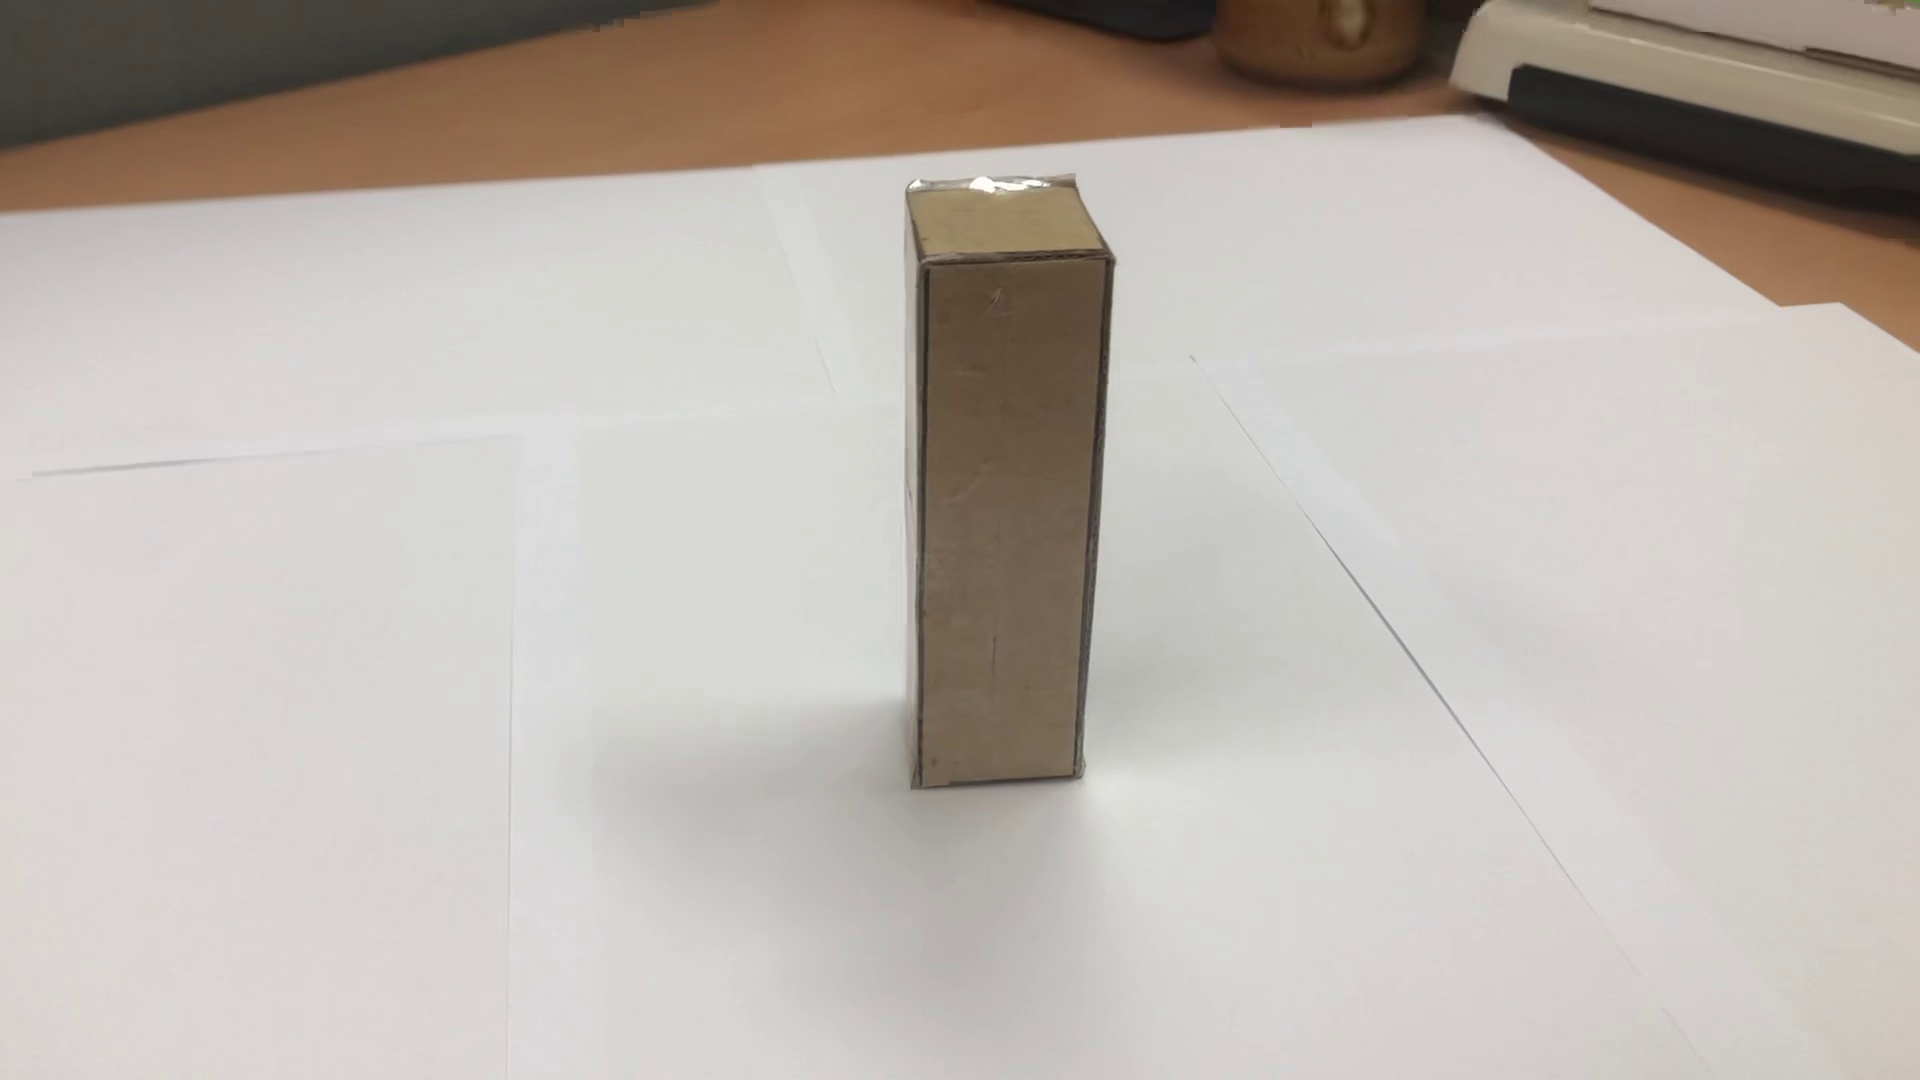box: (872, 160, 1143, 823)
